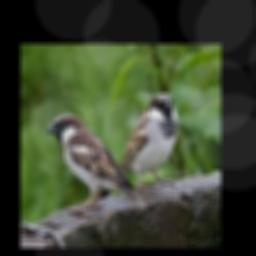Sparrow: (46, 112, 148, 211), (98, 93, 177, 198)
